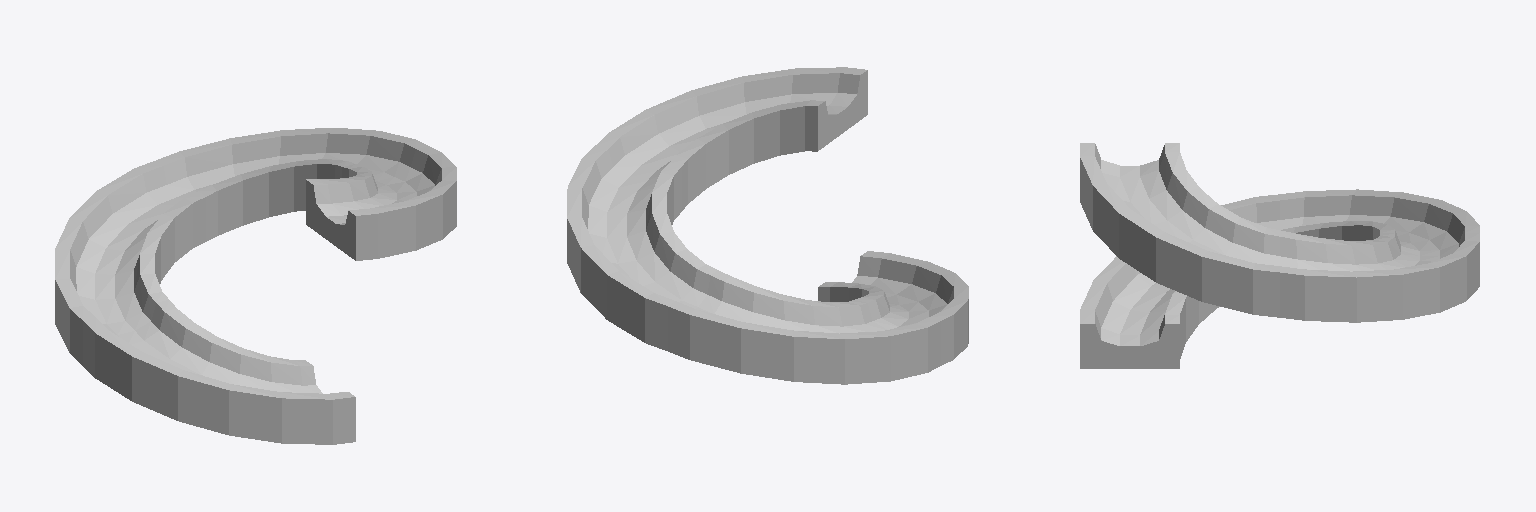
The model's file is helix-right.obj.
3 renders of one model, left to right at view 1: azimuth 30°, elevation 25°; view 2: azimuth 150°, elevation 25°; view 3: azimuth 270°, elevation 25°, orthographic.
Visible parts, largest first — view 1: helix-right; view 2: helix-right; view 3: helix-right.
Boxes of the visible parts, <box> form: helix-right: <box>55,128,456,444</box>; helix-right: <box>567,67,968,384</box>; helix-right: <box>1080,143,1479,368</box>.
Size of the model in its own units: 4.01 by 2.5 by 4.01.